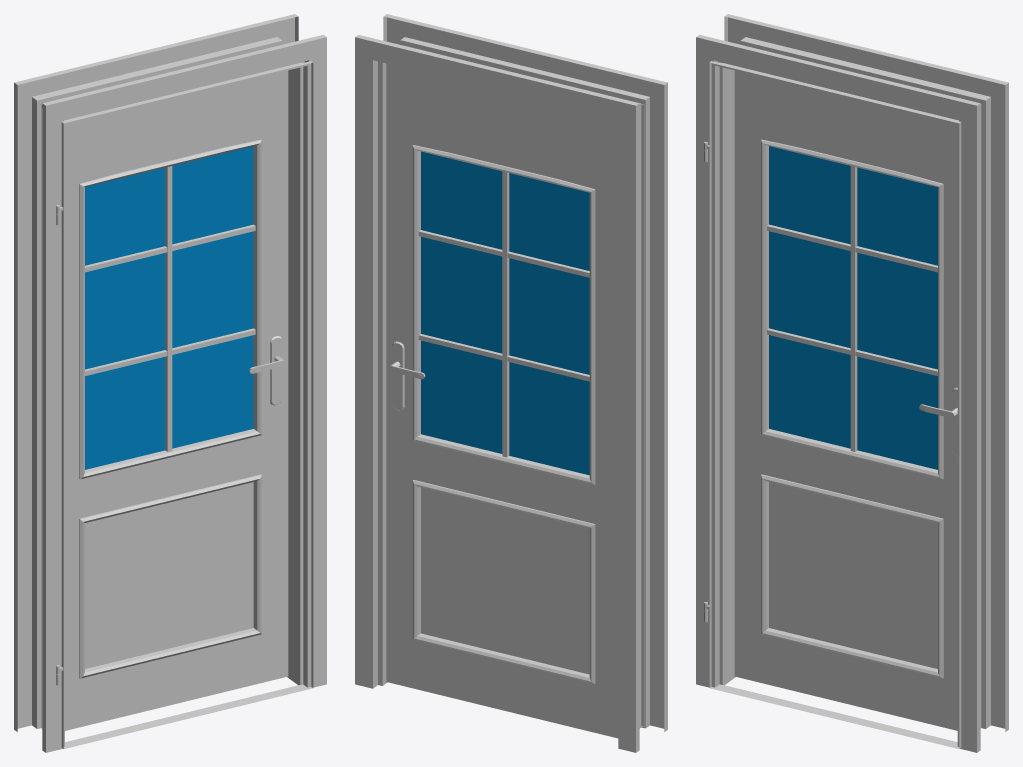
Rendered from Door.fbx.
3 views of the same model, side by side, from view 1: azimuth 30°, elevation 25°; view 2: azimuth 150°, elevation 25°; view 3: azimuth 330°, elevation 25° (orthographic).
Visible parts, largest first — view 1: Door Frame.001, Door Frame; view 2: Door Frame.001, Door Frame; view 3: Door Frame.001, Door Frame.
Boxes of the visible parts, x1=… form: Door Frame.001: x1=42, y1=70, x2=288, y2=730; Door Frame: x1=14, y1=14, x2=326, y2=752; Door Frame.001: x1=386, y1=63, x2=618, y2=738; Door Frame: x1=355, y1=14, x2=667, y2=752; Door Frame.001: x1=734, y1=70, x2=957, y2=730; Door Frame: x1=696, y1=14, x2=1008, y2=752.
Size of the model in its own units: 378 by 832 by 79.1.
